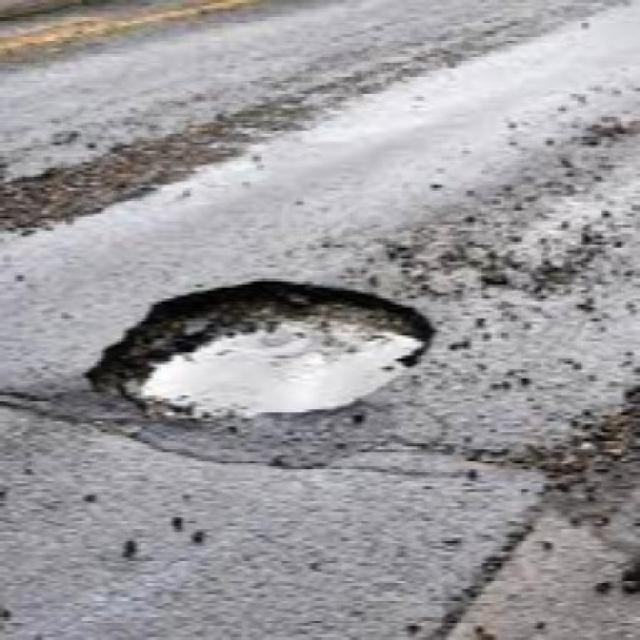Pothole: (70, 278, 463, 431), (0, 80, 285, 254)
